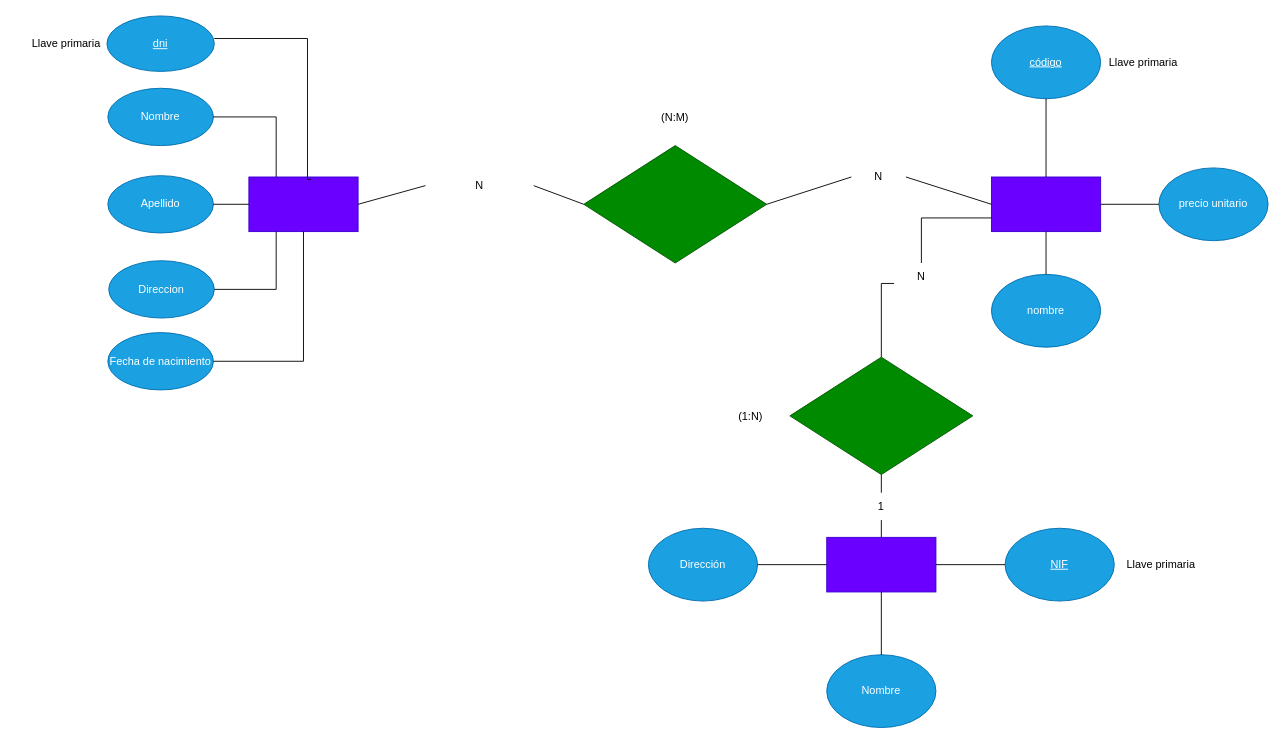
This 1284x743 diagram has some shape labels left out. The centre of each missing label's shape, as x and y in pixels:
Cliente: [303,204]
Compra: [675,204]
Producto: [1046,204]
Proveedor: [881,564]
Suministra: [881,415]
